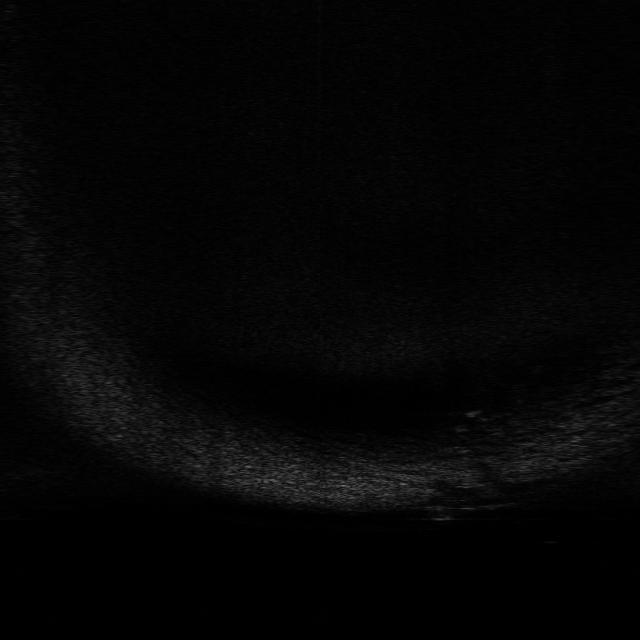plane: (420, 498, 520, 522)
